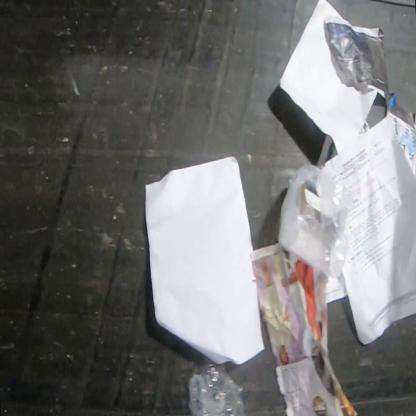rigid_plastic: (188, 360, 245, 416)
soft_plastic: (276, 162, 355, 281)
